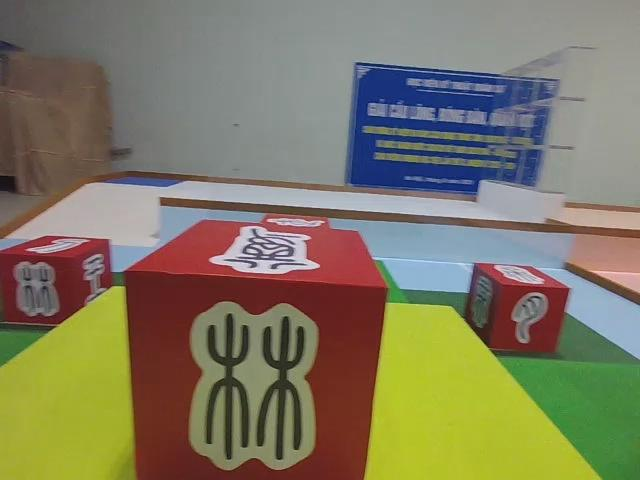R2 Fake: (121, 216, 390, 480), (0, 230, 114, 329), (463, 258, 570, 356)
